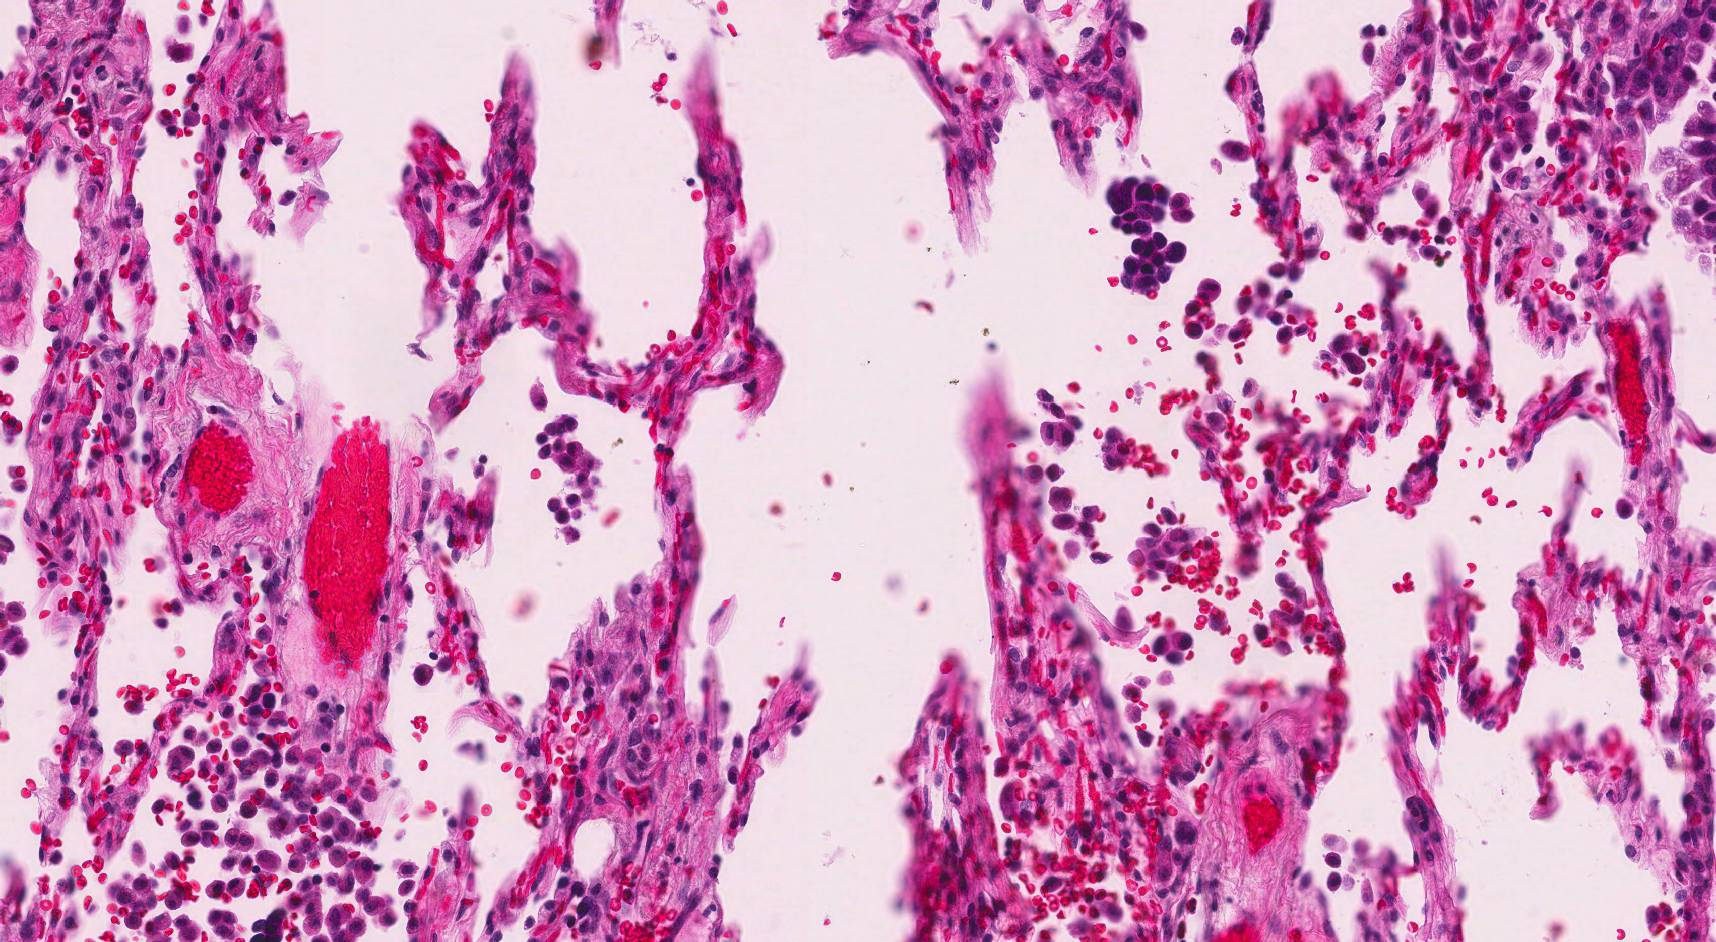stas: (1103, 179, 1187, 293)
